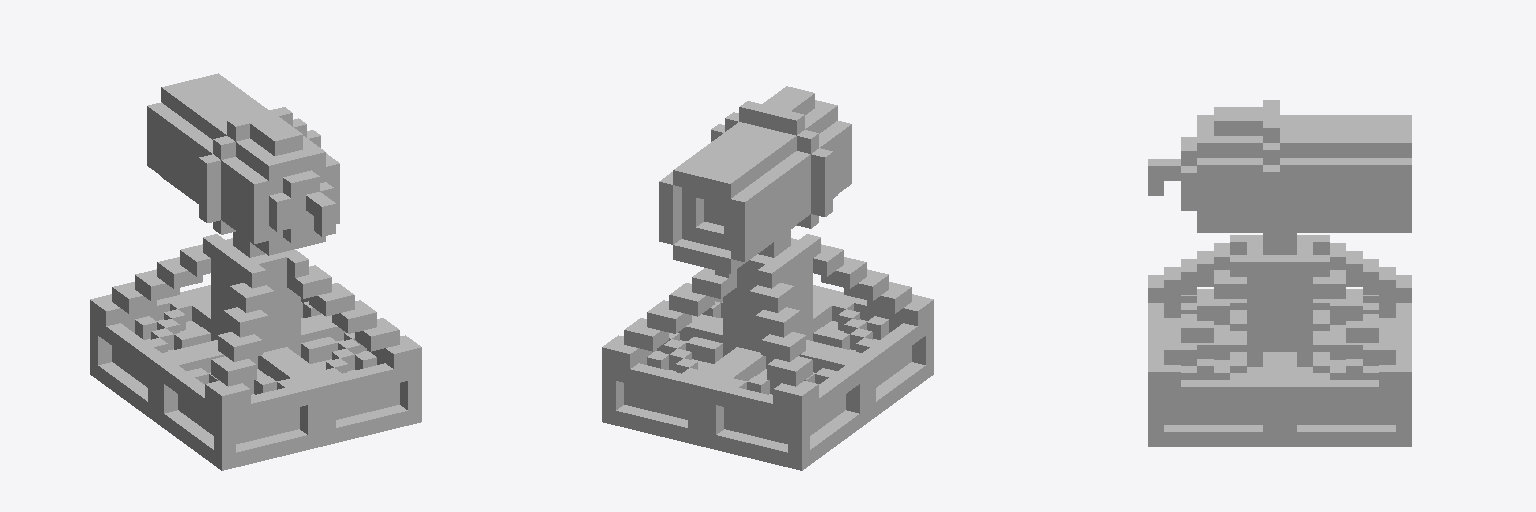
The model's file is Pirate Tower backwards.obj.
3 views of the same model, side by side, from view 1: azimuth 30°, elevation 25°; view 2: azimuth 150°, elevation 25°; view 3: azimuth 270°, elevation 25° (orthographic).
Visible parts, largest first — view 1: object 1; view 2: object 1; view 3: object 1.
Part boxes in pixels (bbox=[...]): object 1: bbox=[90, 73, 421, 470]; object 1: bbox=[602, 86, 933, 470]; object 1: bbox=[1148, 100, 1411, 446].
Bounding box in the file's own units: 1.4 × 1.9 × 1.6.